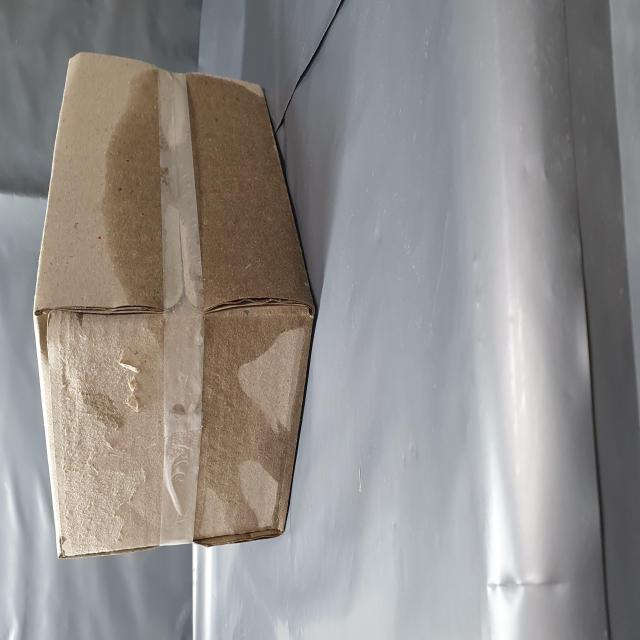wet: (68, 350, 317, 567), (172, 167, 330, 286)
